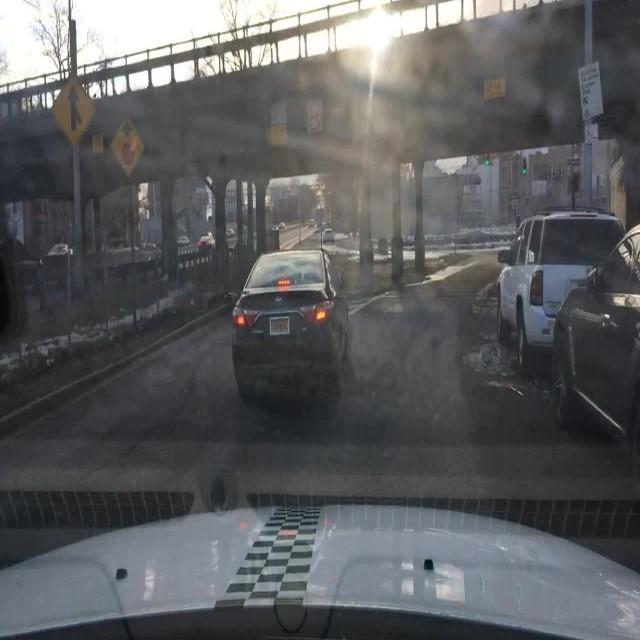normal: (498, 213, 628, 374), (551, 227, 639, 452), (233, 248, 350, 403)
